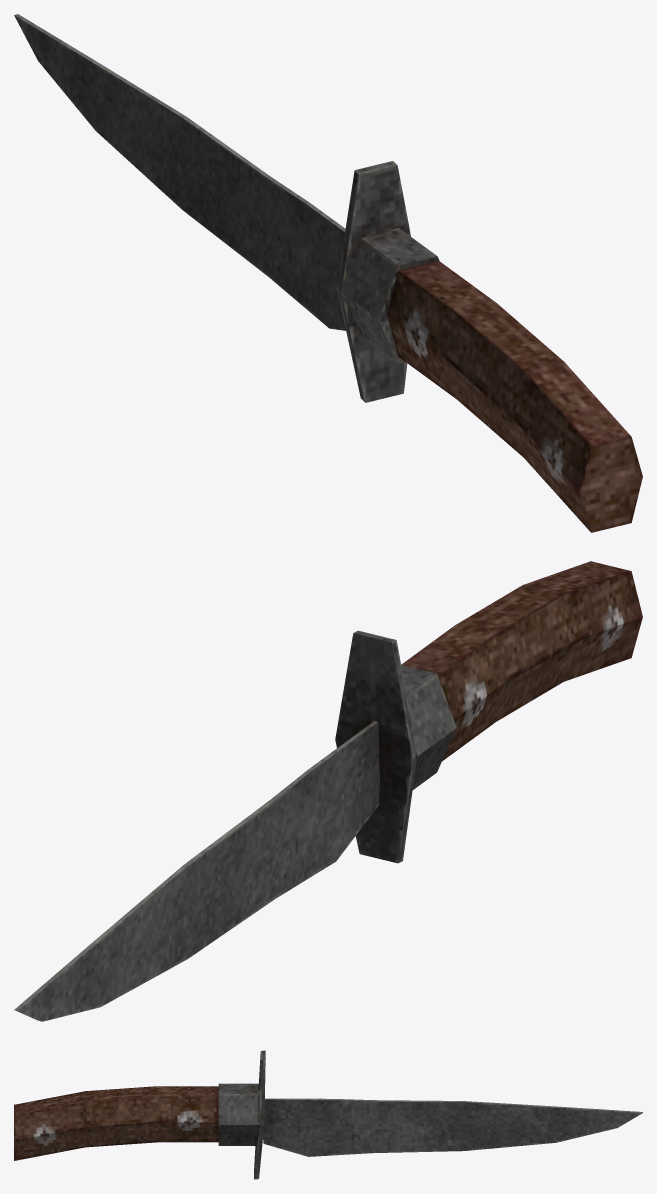
The model's file is knife-5.glb.
3 views of the same model, one above another, from view 1: azimuth 30°, elevation 25°; view 2: azimuth 150°, elevation 25°; view 3: azimuth 270°, elevation 25° (orthographic). The views are drawn at different scales.
Visible parts, largest first — view 1: Knife_5; view 2: Knife_5; view 3: Knife_5.
Part boxes in pixels (x1,y1,x2,y2): Knife_5: (14, 14, 642, 532); Knife_5: (14, 561, 642, 1021); Knife_5: (14, 1050, 642, 1179).
Size of the model in its own units: 0.2392 by 0.6566 by 3.14.
Materials: 1 (1 with a texture image).
